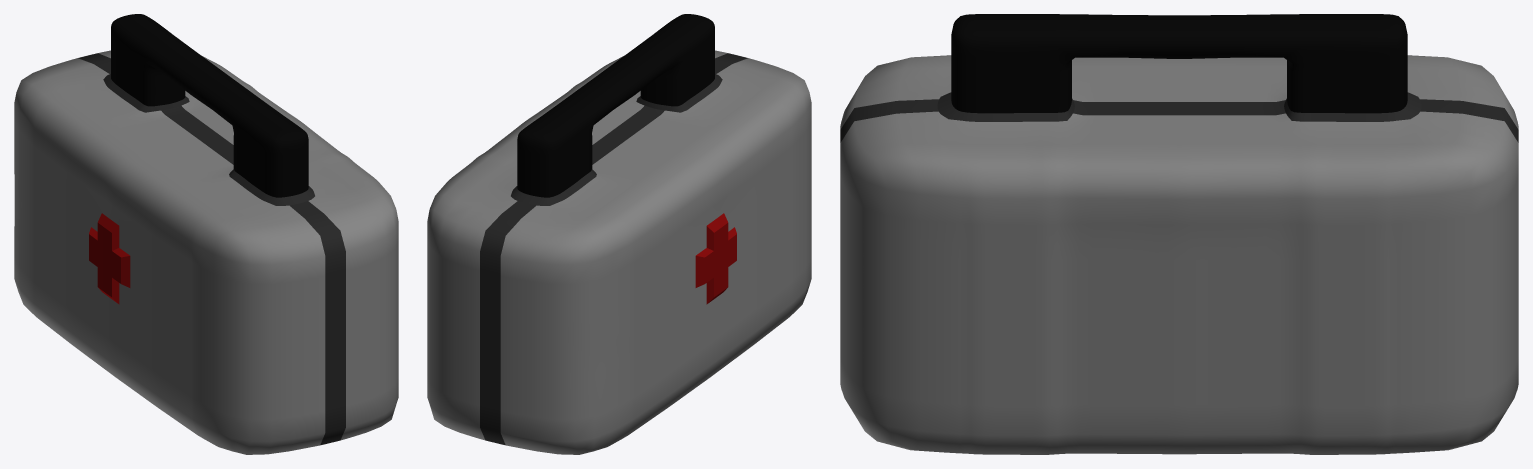
The model's file is Botiquin.fbx.
3 views of the same model, side by side, from view 1: azimuth 30°, elevation 25°; view 2: azimuth 150°, elevation 25°; view 3: azimuth 270°, elevation 25° (orthographic). The views are drawn at different scales.
Parts seen in each view (by area): view 1: Botiquin, Mago, Object, Cruz; view 2: Botiquin, Mago, Object, Cruz; view 3: Botiquin, Mago, Object.
Boxes of the visible parts, x1=… form: Botiquin: x1=14, y1=50, x2=398, y2=454; Mago: x1=111, y1=14, x2=308, y2=197; Object: x1=78, y1=53, x2=345, y2=445; Cruz: x1=89, y1=213, x2=130, y2=304; Botiquin: x1=427, y1=50, x2=811, y2=454; Mago: x1=517, y1=14, x2=714, y2=197; Object: x1=480, y1=53, x2=747, y2=445; Cruz: x1=695, y1=213, x2=736, y2=304; Botiquin: x1=840, y1=55, x2=1518, y2=454; Mago: x1=951, y1=14, x2=1407, y2=113; Object: x1=840, y1=92, x2=1518, y2=142.
Bounding box in the file's own units: 0.5788 × 0.7888 × 1.27.
